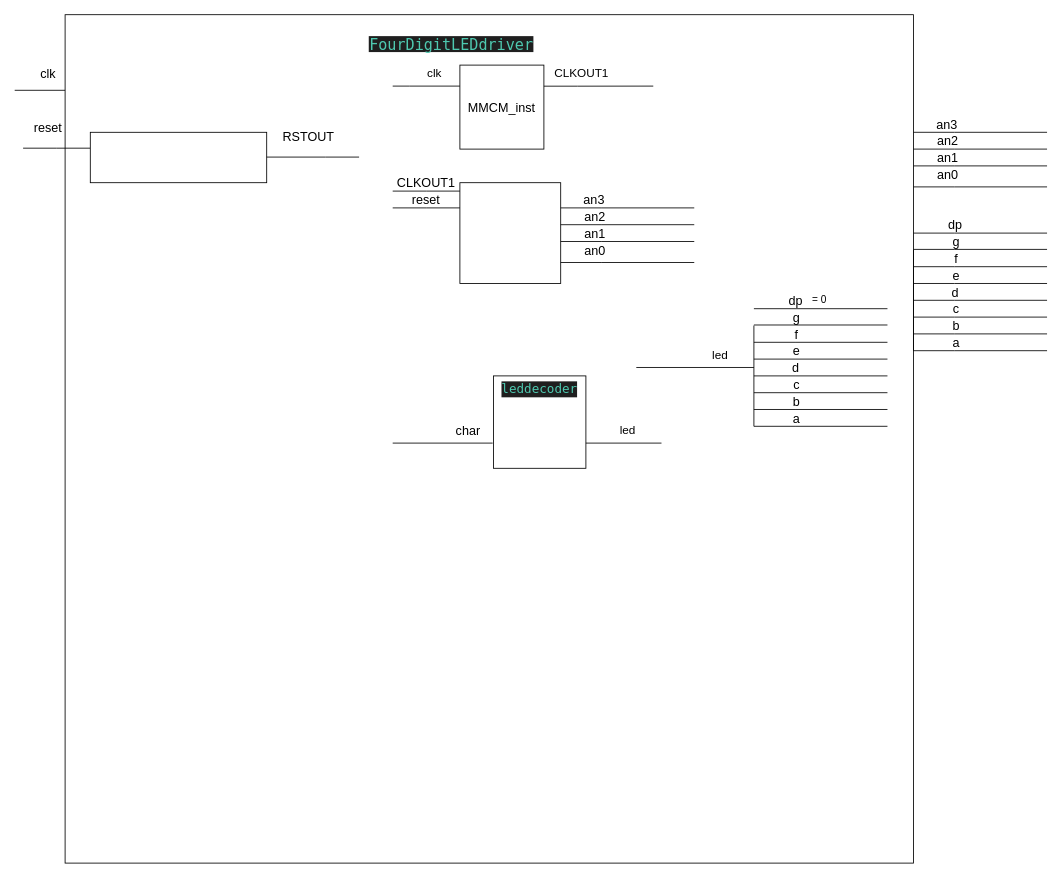
Image size: 1063x878. Some labels were removed from this diagram. The box of each missing label's shape, as (x1, y1, x2, y2) in pixels:
leddriver: (459, 182, 561, 284)
reset_synchroniser _antibounce: (89, 131, 267, 183)
